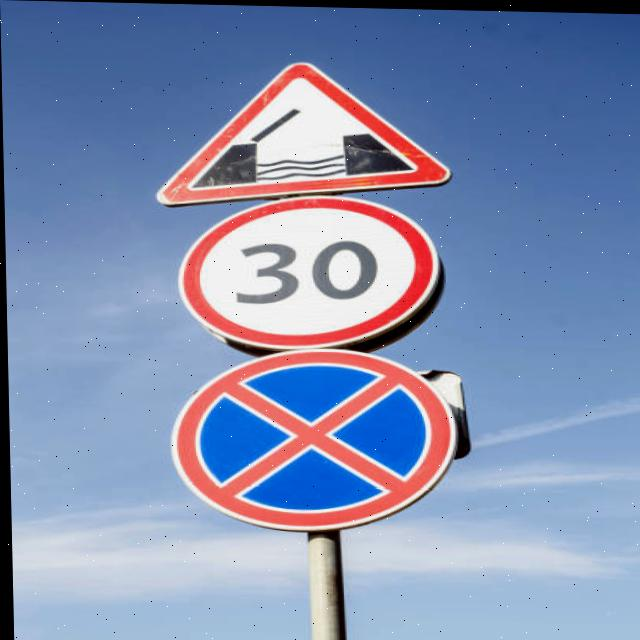Speed limit 30: (173, 191, 445, 353)
